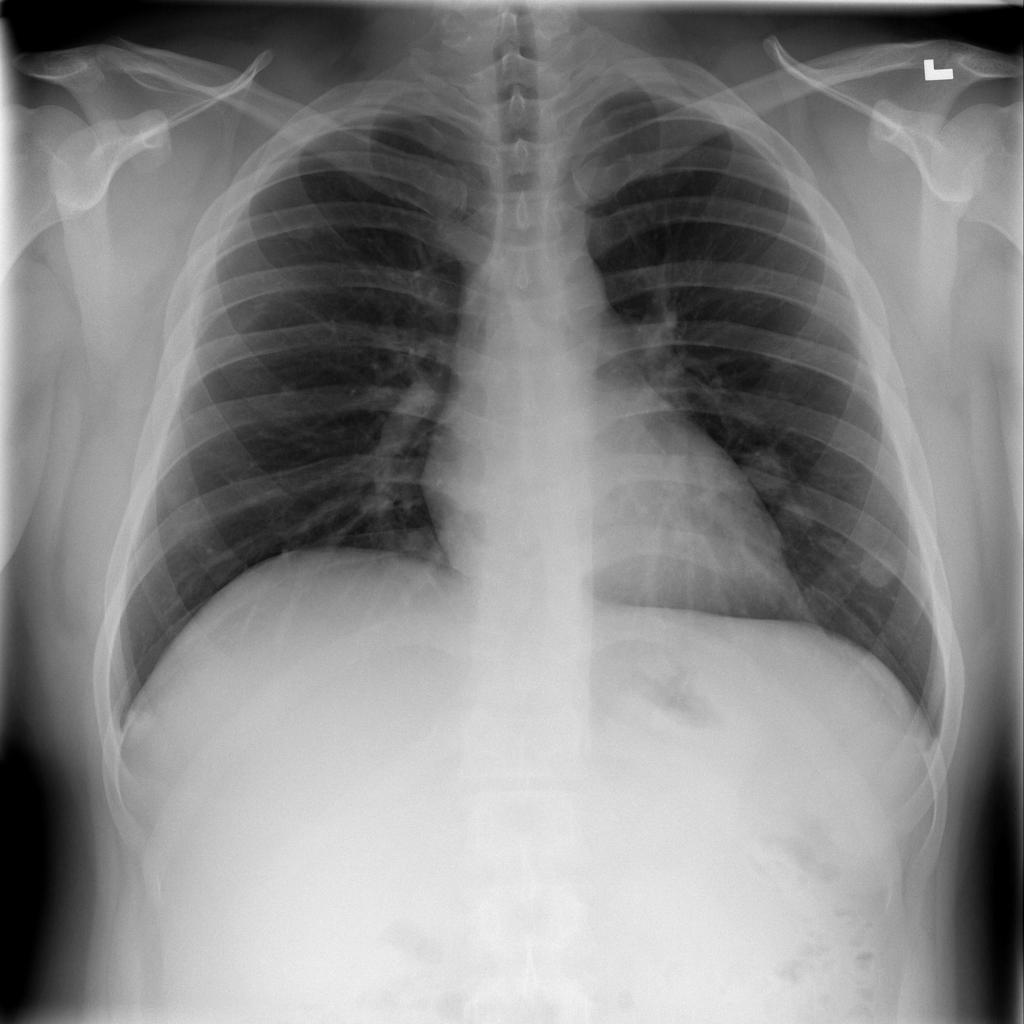nodule: (725, 436, 807, 507), (843, 526, 914, 604), (379, 511, 456, 578), (759, 481, 836, 544), (274, 208, 331, 254)
